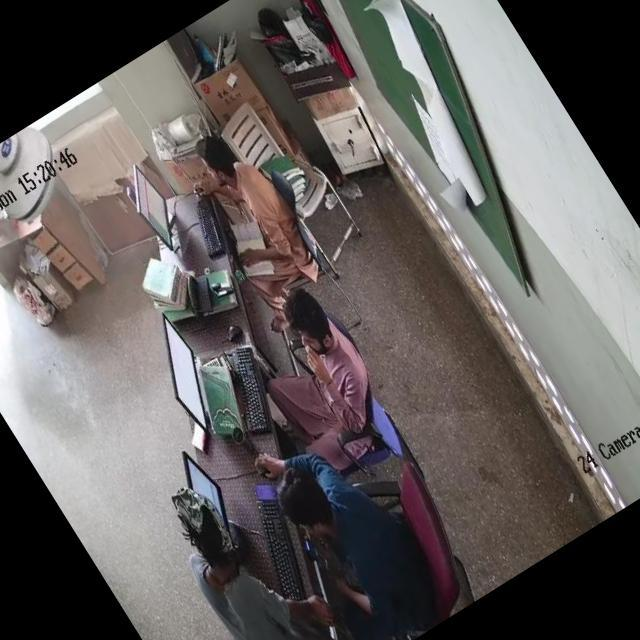person: (257, 424, 441, 640), (145, 473, 334, 640), (230, 273, 393, 463), (182, 120, 306, 277)
